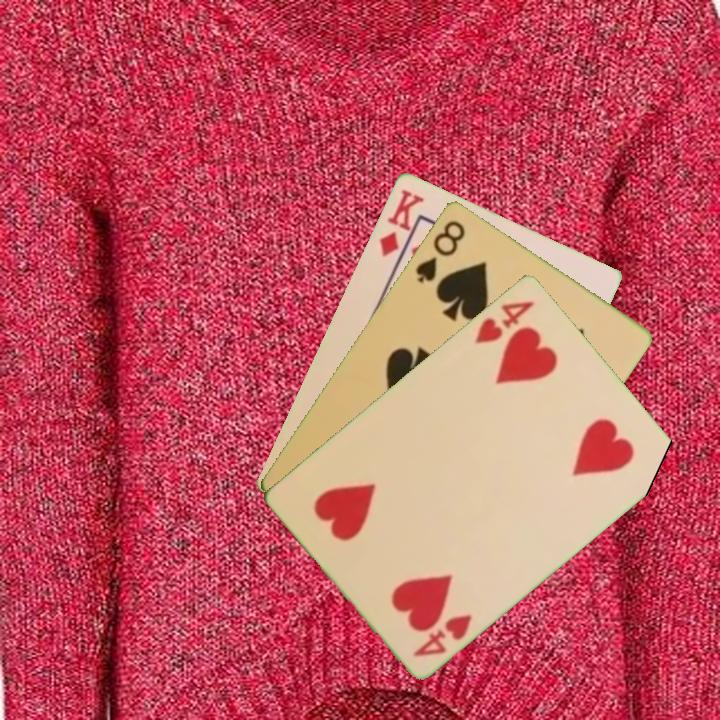4h: (471, 296, 538, 346), (409, 610, 476, 660)
8s: (412, 216, 468, 286)
Kd: (375, 185, 427, 268)
